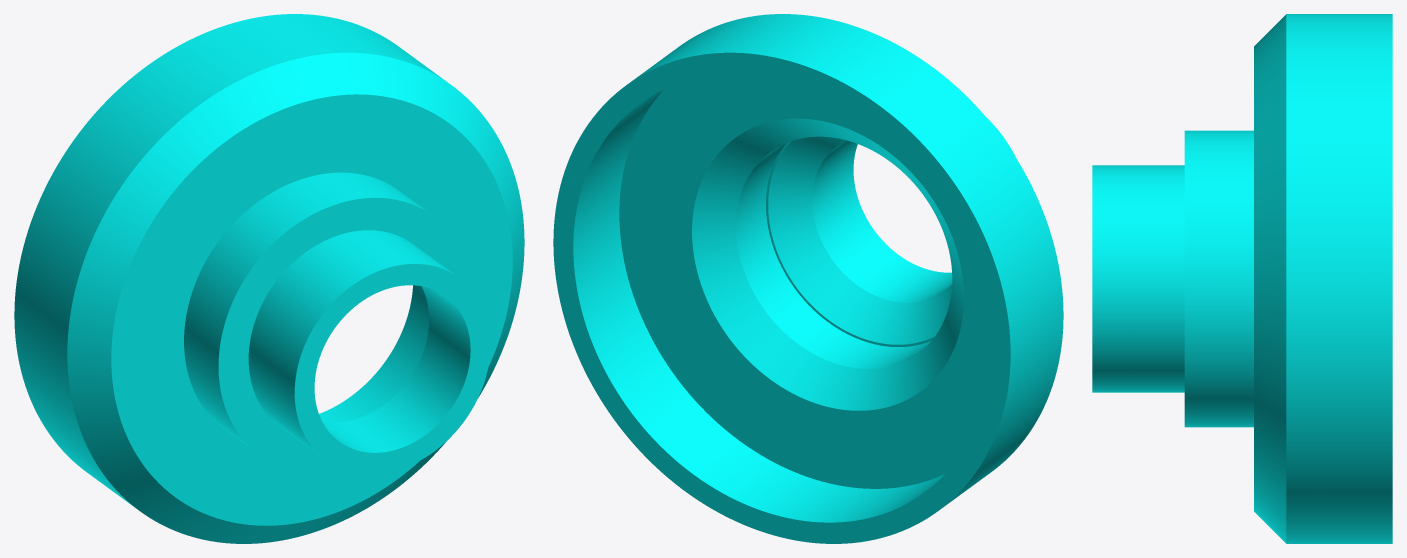
File: V5_Filter Adapter (SM1).obj
3 renders of one model, left to right at view 1: azimuth 30°, elevation 25°; view 2: azimuth 150°, elevation 25°; view 3: azimuth 270°, elevation 25°, orthographic.
Parts seen in each view (by area): view 1: Solid1:43; view 2: Solid1:43; view 3: Solid1:43.
Boxes of the visible parts, x1=… form: Solid1:43: x1=14, y1=14, x2=524, y2=543; Solid1:43: x1=553, y1=14, x2=1063, y2=543; Solid1:43: x1=1092, y1=14, x2=1392, y2=543.
Bounding box in the file's own units: 28.69 × 28.69 × 16.25.
